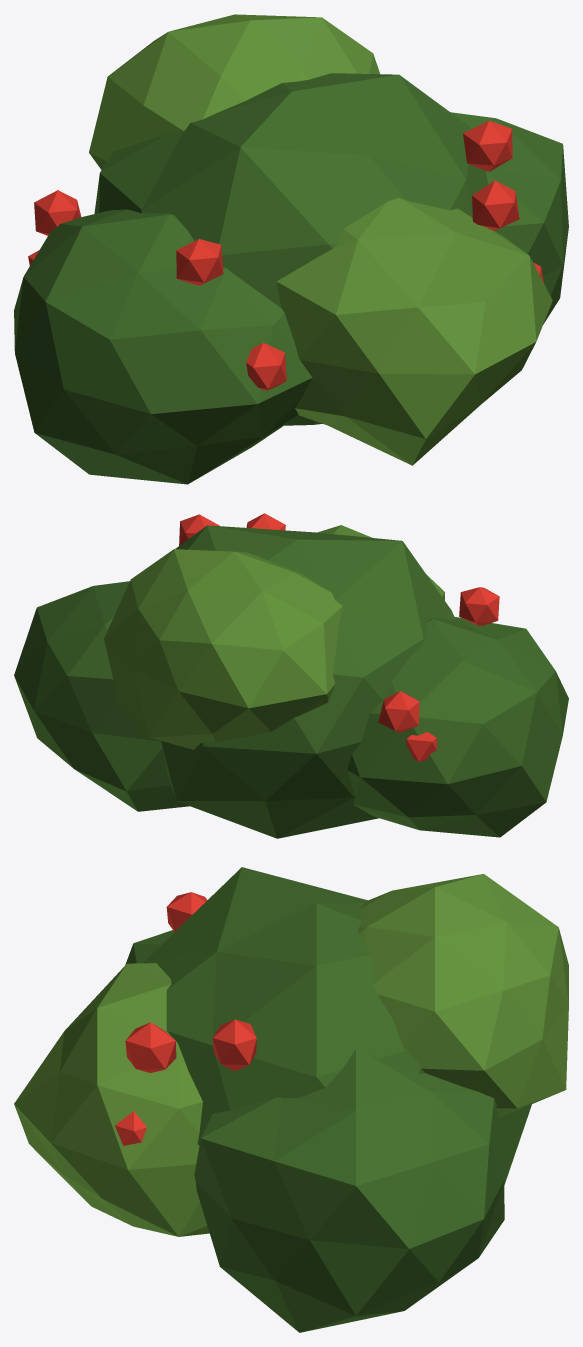
The model's file is Tree_Bush_Berry.fbx.
3 views of the same model, one above another, from view 1: azimuth 30°, elevation 25°; view 2: azimuth 150°, elevation 25°; view 3: azimuth 270°, elevation 25° (orthographic). The views are drawn at different scales.
Parts seen in each view (by area): view 1: Tree_Bush_Berry; view 2: Tree_Bush_Berry; view 3: Tree_Bush_Berry.
Part boxes in pixels (bbox=[...]): Tree_Bush_Berry: bbox=[14, 14, 568, 484]; Tree_Bush_Berry: bbox=[14, 513, 568, 838]; Tree_Bush_Berry: bbox=[14, 867, 568, 1332].
Bounding box in the file's own units: 1.69 × 0.9921 × 1.41.
